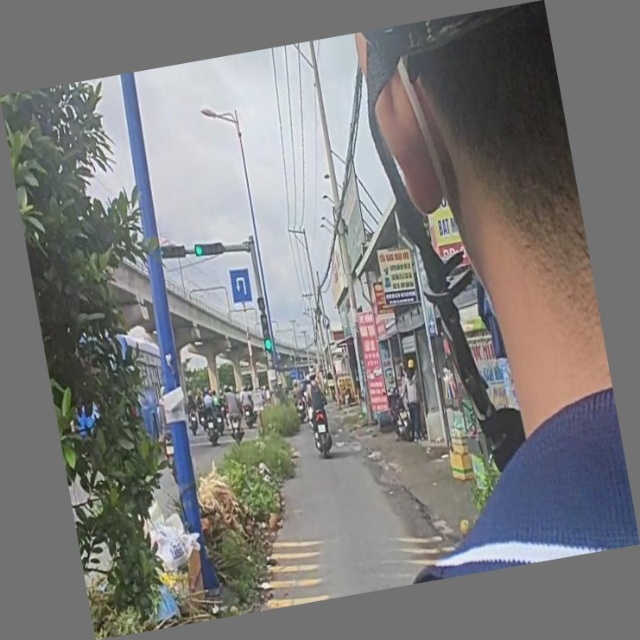I.409: (227, 265, 256, 308)
